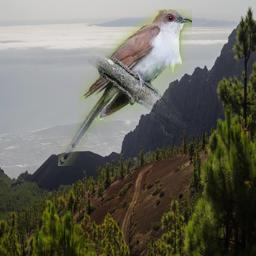Cuckoo: (58, 9, 192, 166)
